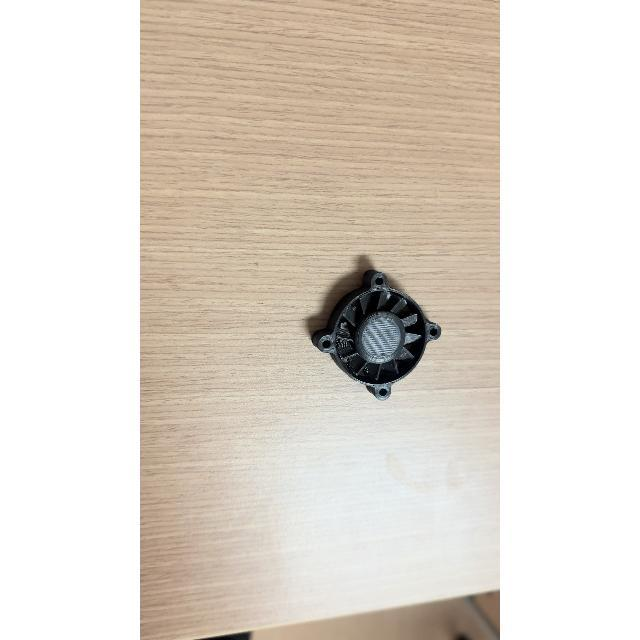Pieza4: (299, 256, 453, 406)
